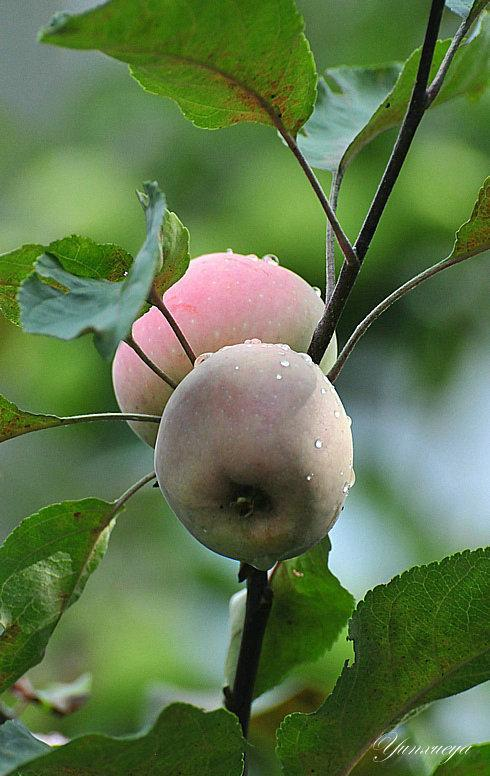apple: (109, 246, 338, 453), (153, 342, 352, 563)
